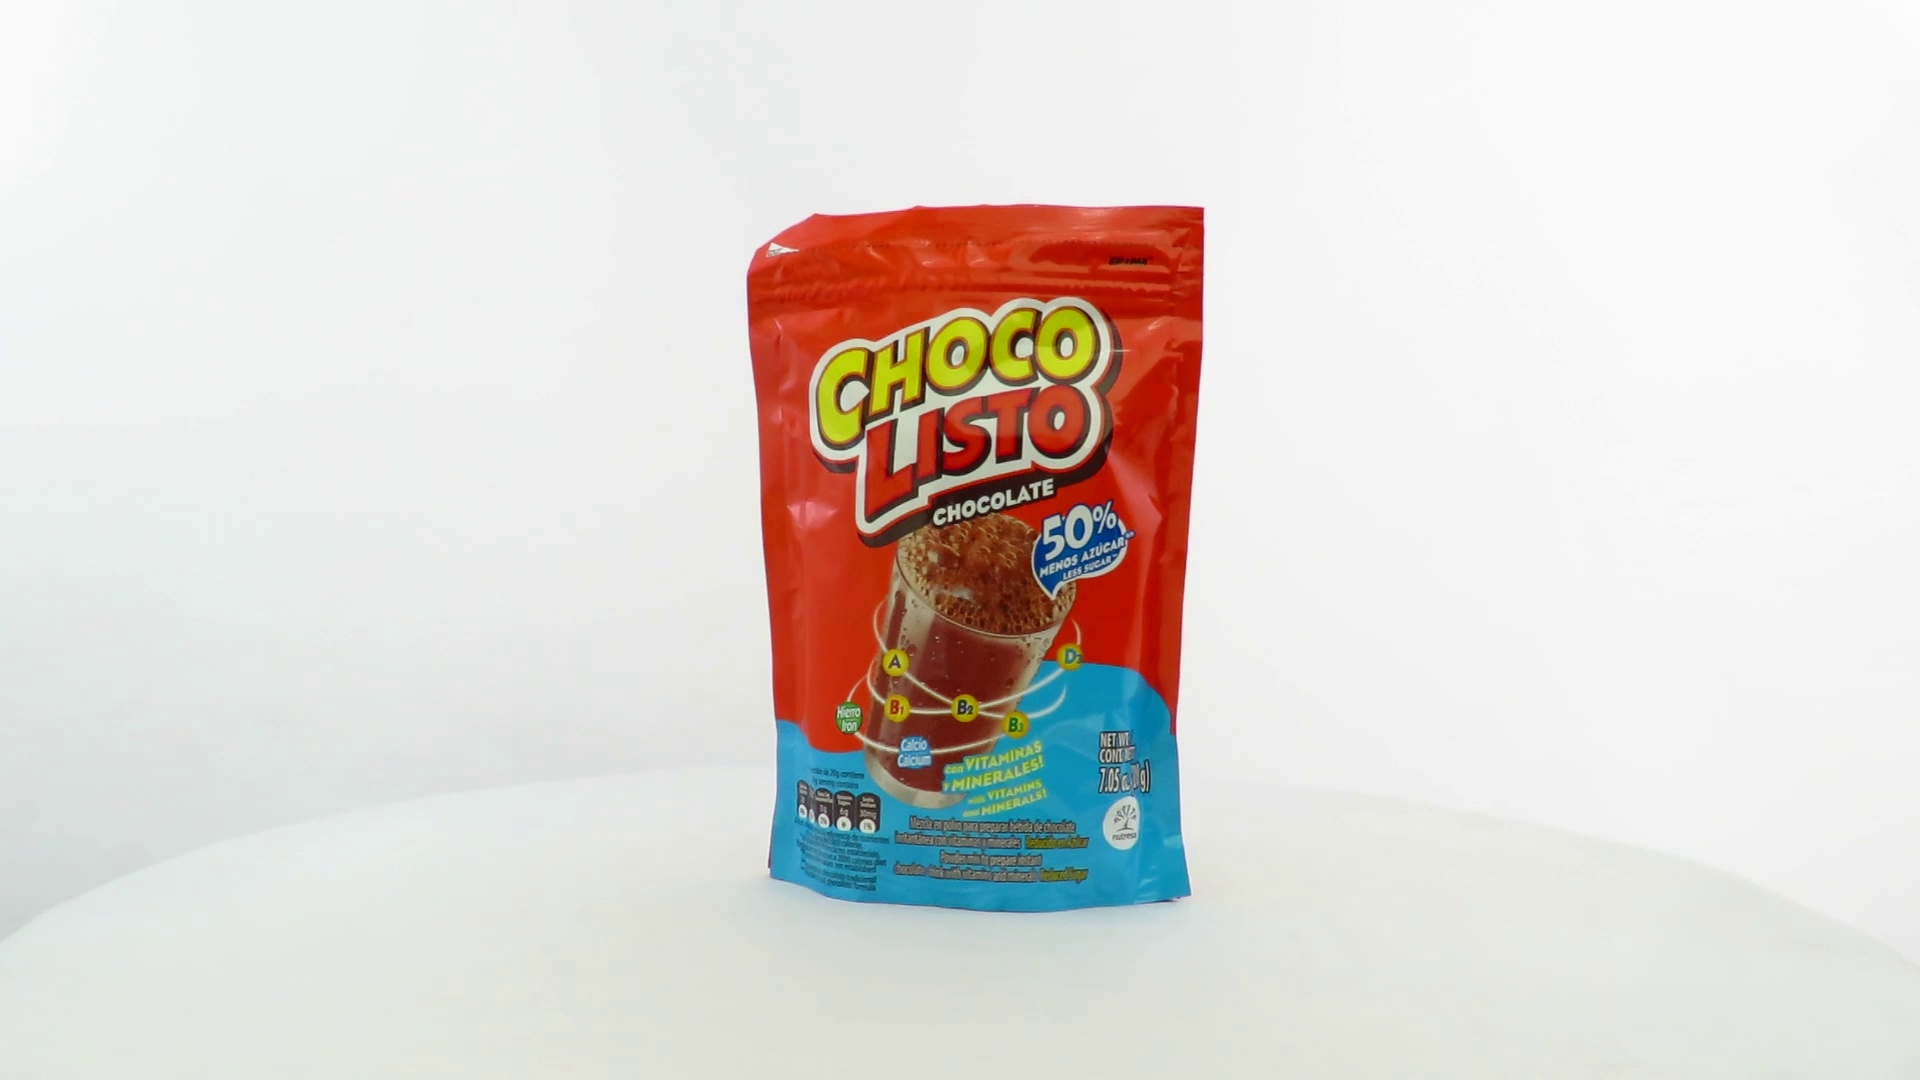COL0170104DYP20000: (741, 199, 1211, 919)
